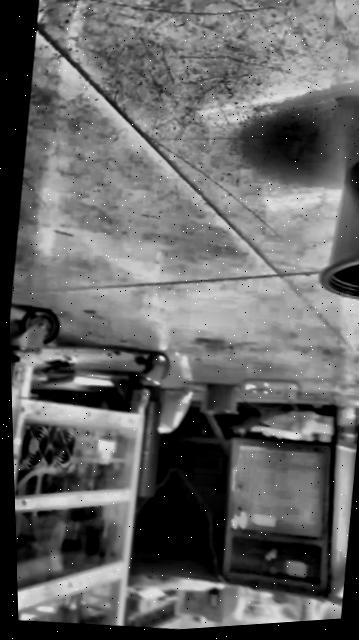pot: (311, 141, 359, 305)
